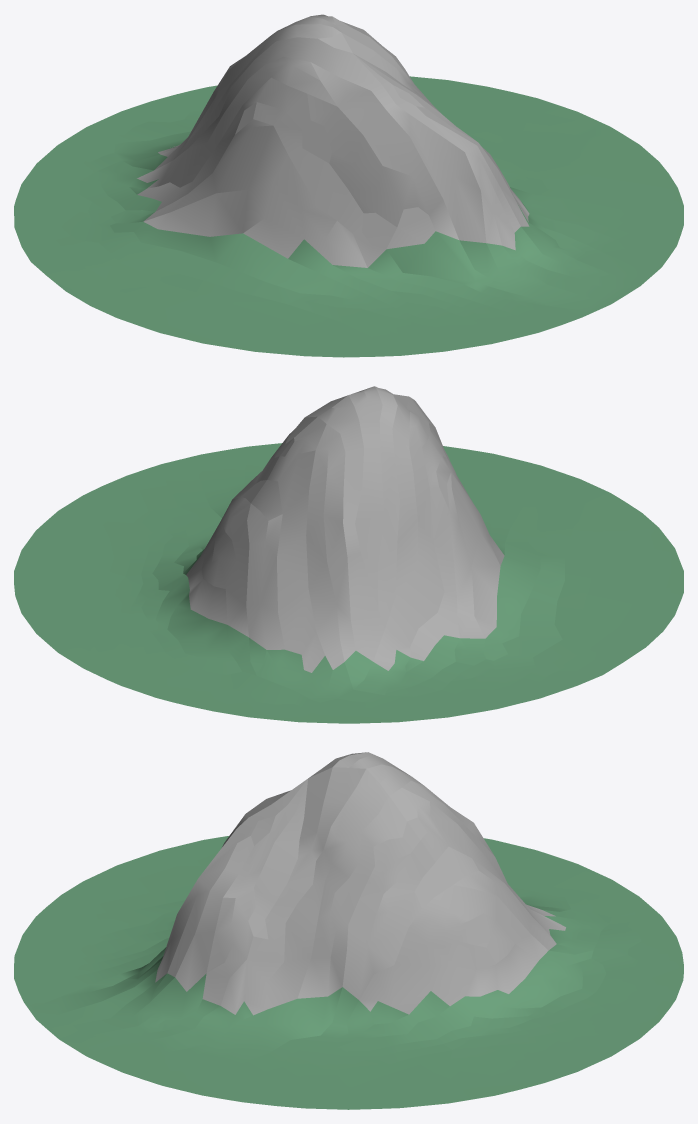
Rendered from rock_beach_hero_D.fbx.
3 views of the same model, one above another, from view 1: azimuth 30°, elevation 25°; view 2: azimuth 150°, elevation 25°; view 3: azimuth 270°, elevation 25° (orthographic).
Visible parts, largest first — view 1: rock_beach_hero_D; view 2: rock_beach_hero_D; view 3: rock_beach_hero_D.
Part boxes in pixels (x1,y1,x2,y2): rock_beach_hero_D: (14,14,683,357); rock_beach_hero_D: (14,386,683,723); rock_beach_hero_D: (14,752,683,1109).
Size of the model in its own units: 287 by 93.79 by 287.
